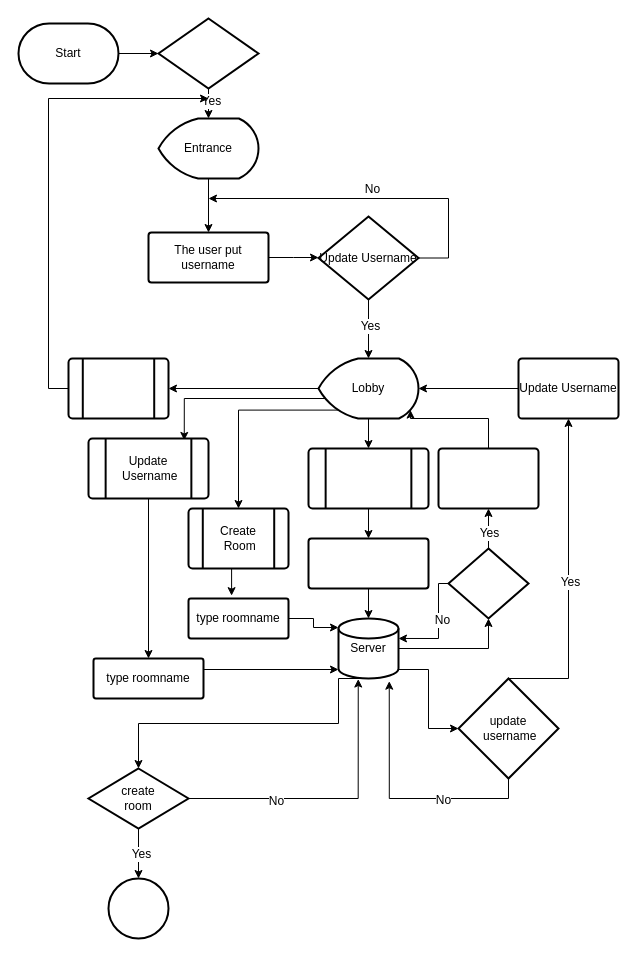
This 636x956 diagram has some shape labels left out. Each missing label, with the centre of its shape:
"Append Message" goes at point (488, 478).
"Chat Message" goes at point (368, 478).
"Connect to Server" goes at point (208, 53).
"Go to room" goes at point (138, 908).
"Logout" goes at point (118, 388).
"Receive Message" goes at point (488, 583).
"user type message" goes at point (368, 563).
